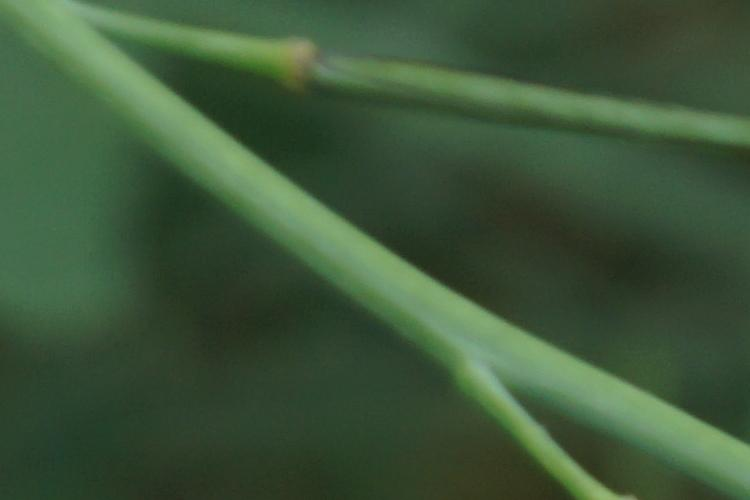pod: (277, 30, 750, 183)
